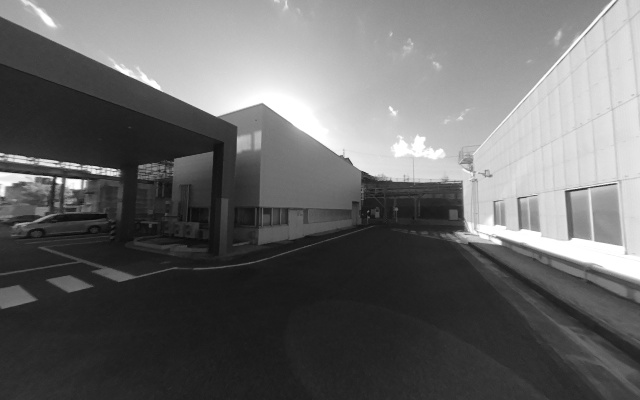bollard: (108, 218, 116, 238)
